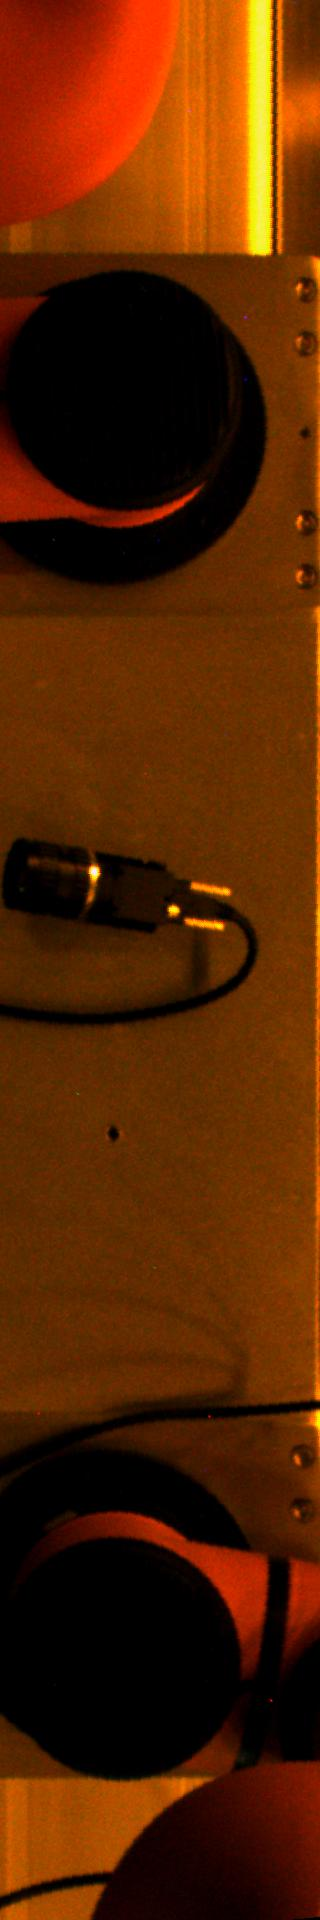keyPoint_2: (97, 1118, 128, 1149)
